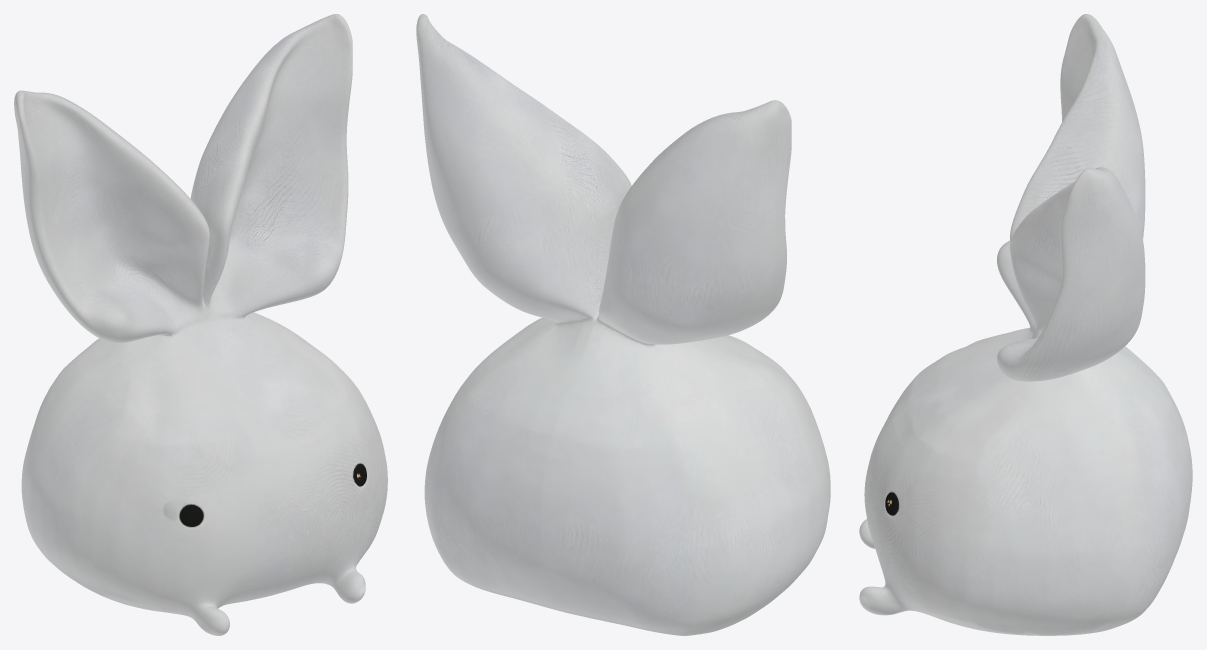
The model's file is SET2.glb.
3 views of the same model, side by side, from view 1: azimuth 30°, elevation 25°; view 2: azimuth 150°, elevation 25°; view 3: azimuth 270°, elevation 25° (orthographic). The views are drawn at different scales.
Bounding box in the file's own units: 1.33 × 1.9 × 1.15.
Materials: 1 (1 with a texture image).
